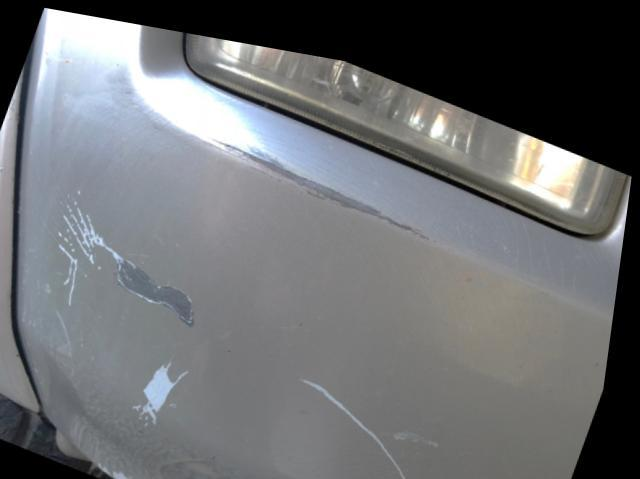scratch: (211, 126, 438, 225), (56, 182, 209, 321), (304, 359, 434, 479)
